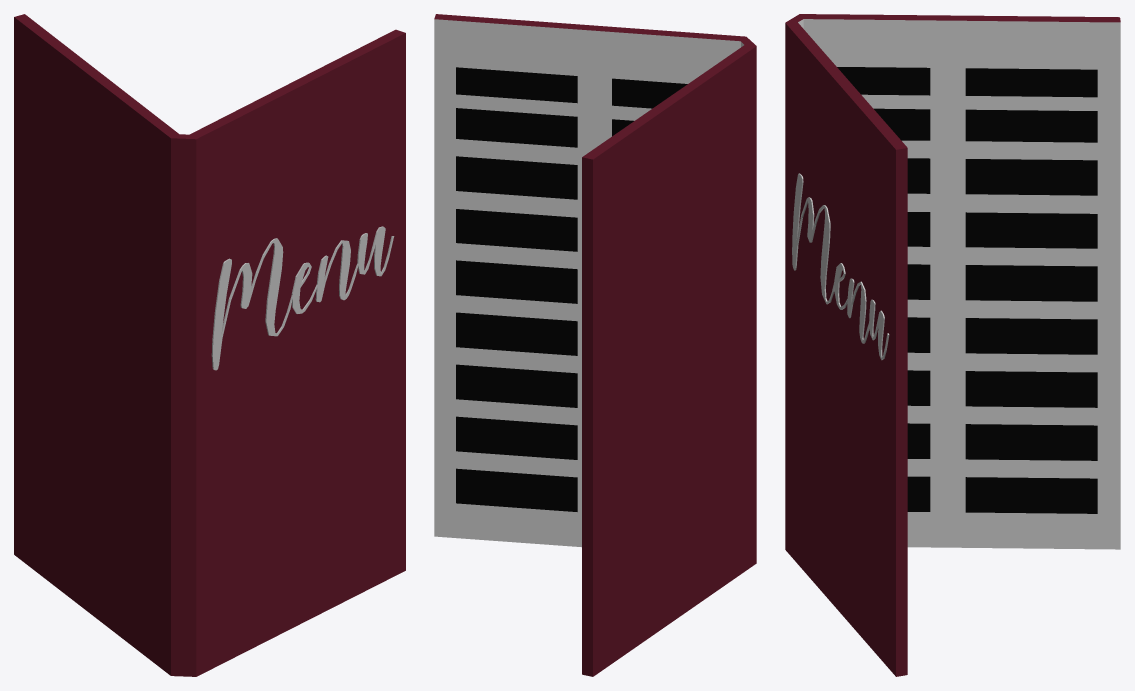
File: R_Menu.fbx
3 views of the same model, side by side, from view 1: azimuth 30°, elevation 25°; view 2: azimuth 150°, elevation 25°; view 3: azimuth 270°, elevation 25° (orthographic). The views are drawn at different scales.
Parts seen in each view (by area): view 1: R_Menu; view 2: R_Menu; view 3: R_Menu.
Boxes of the visible parts, x1,y1,x2,y2 form: R_Menu: (14, 14, 405, 676); R_Menu: (434, 14, 756, 676); R_Menu: (785, 14, 1120, 676).
Bounding box in the file's own units: 136 × 142 × 246.
